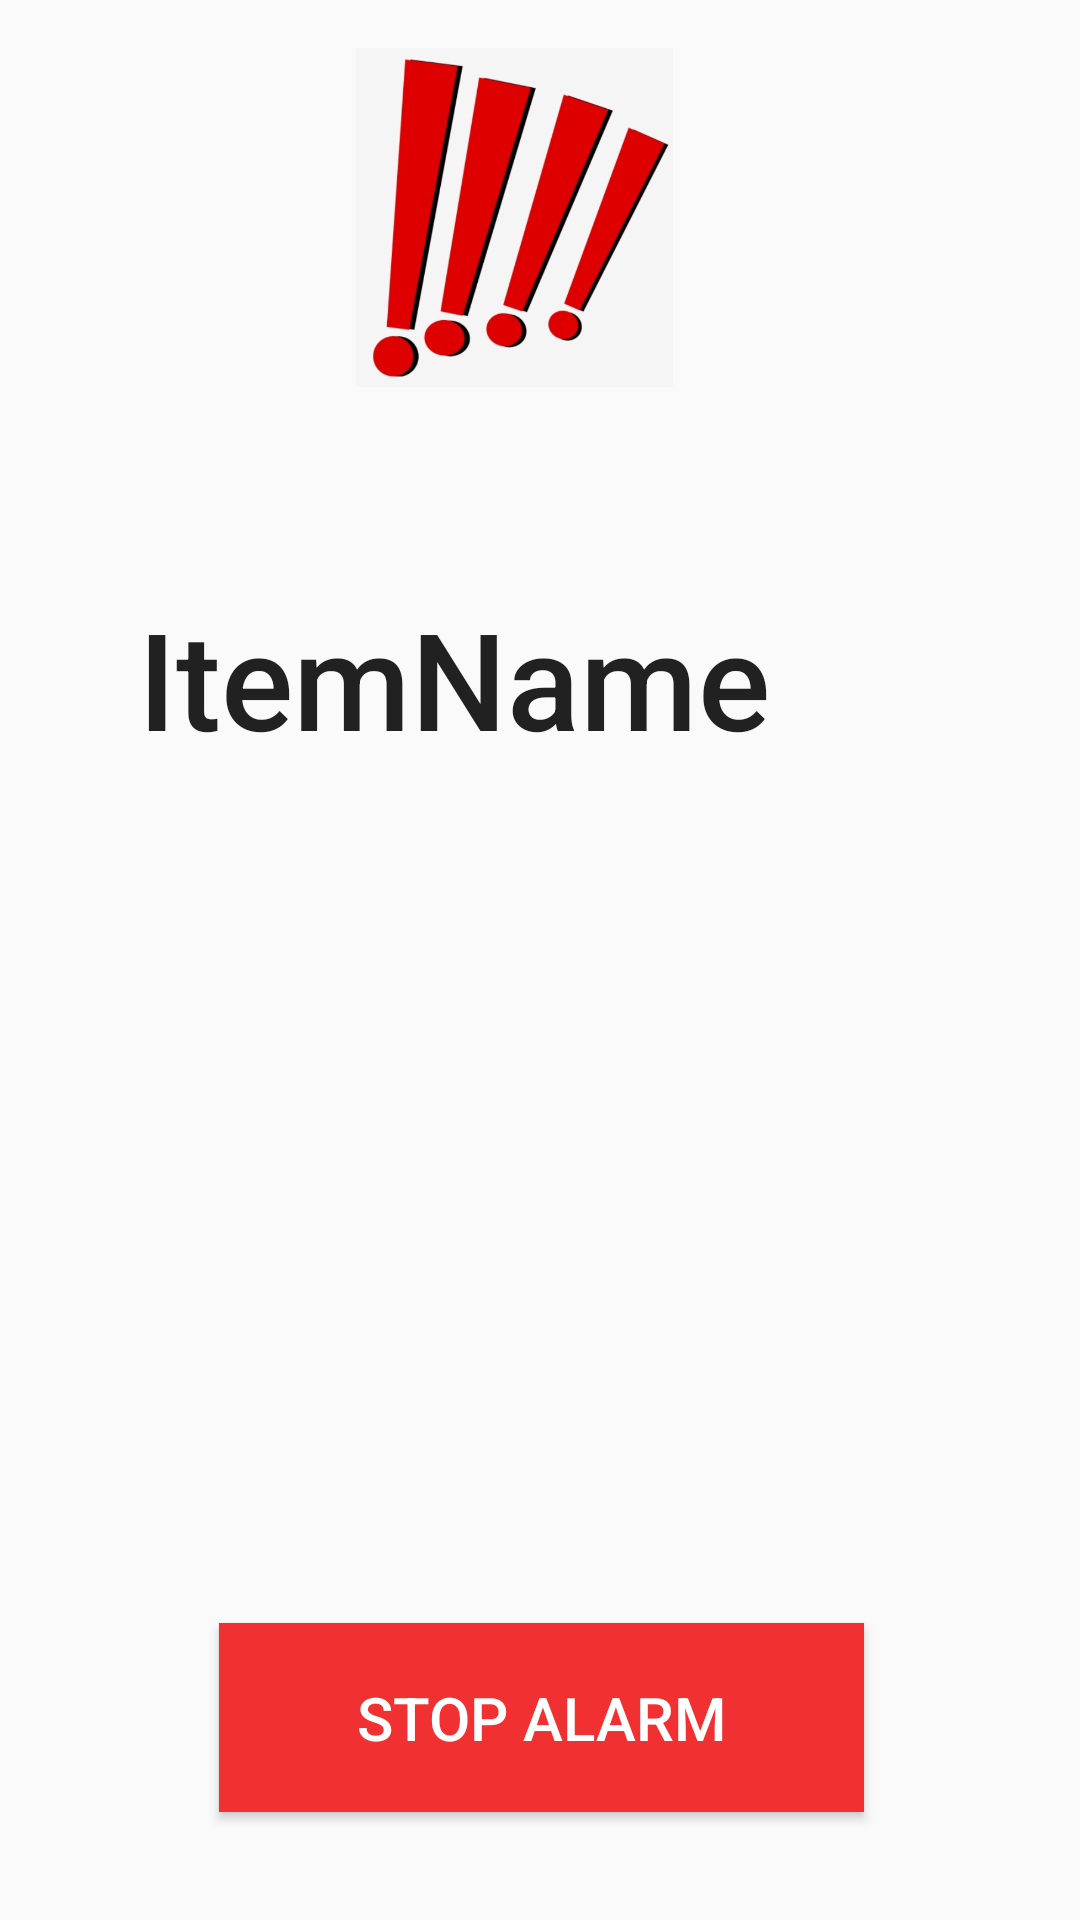

Named icons in this screenshot (1080w x 1920h) and their bounding boxes, (x1,y1,x2,y2):
exclamatioin: (373,59,669,377)
